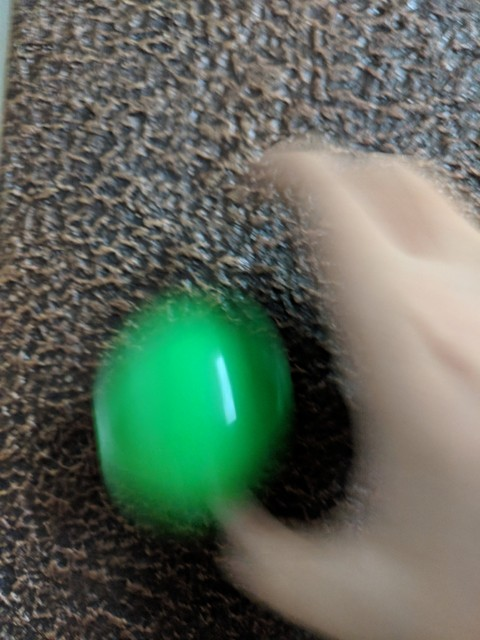ball: (89, 293, 288, 536)
